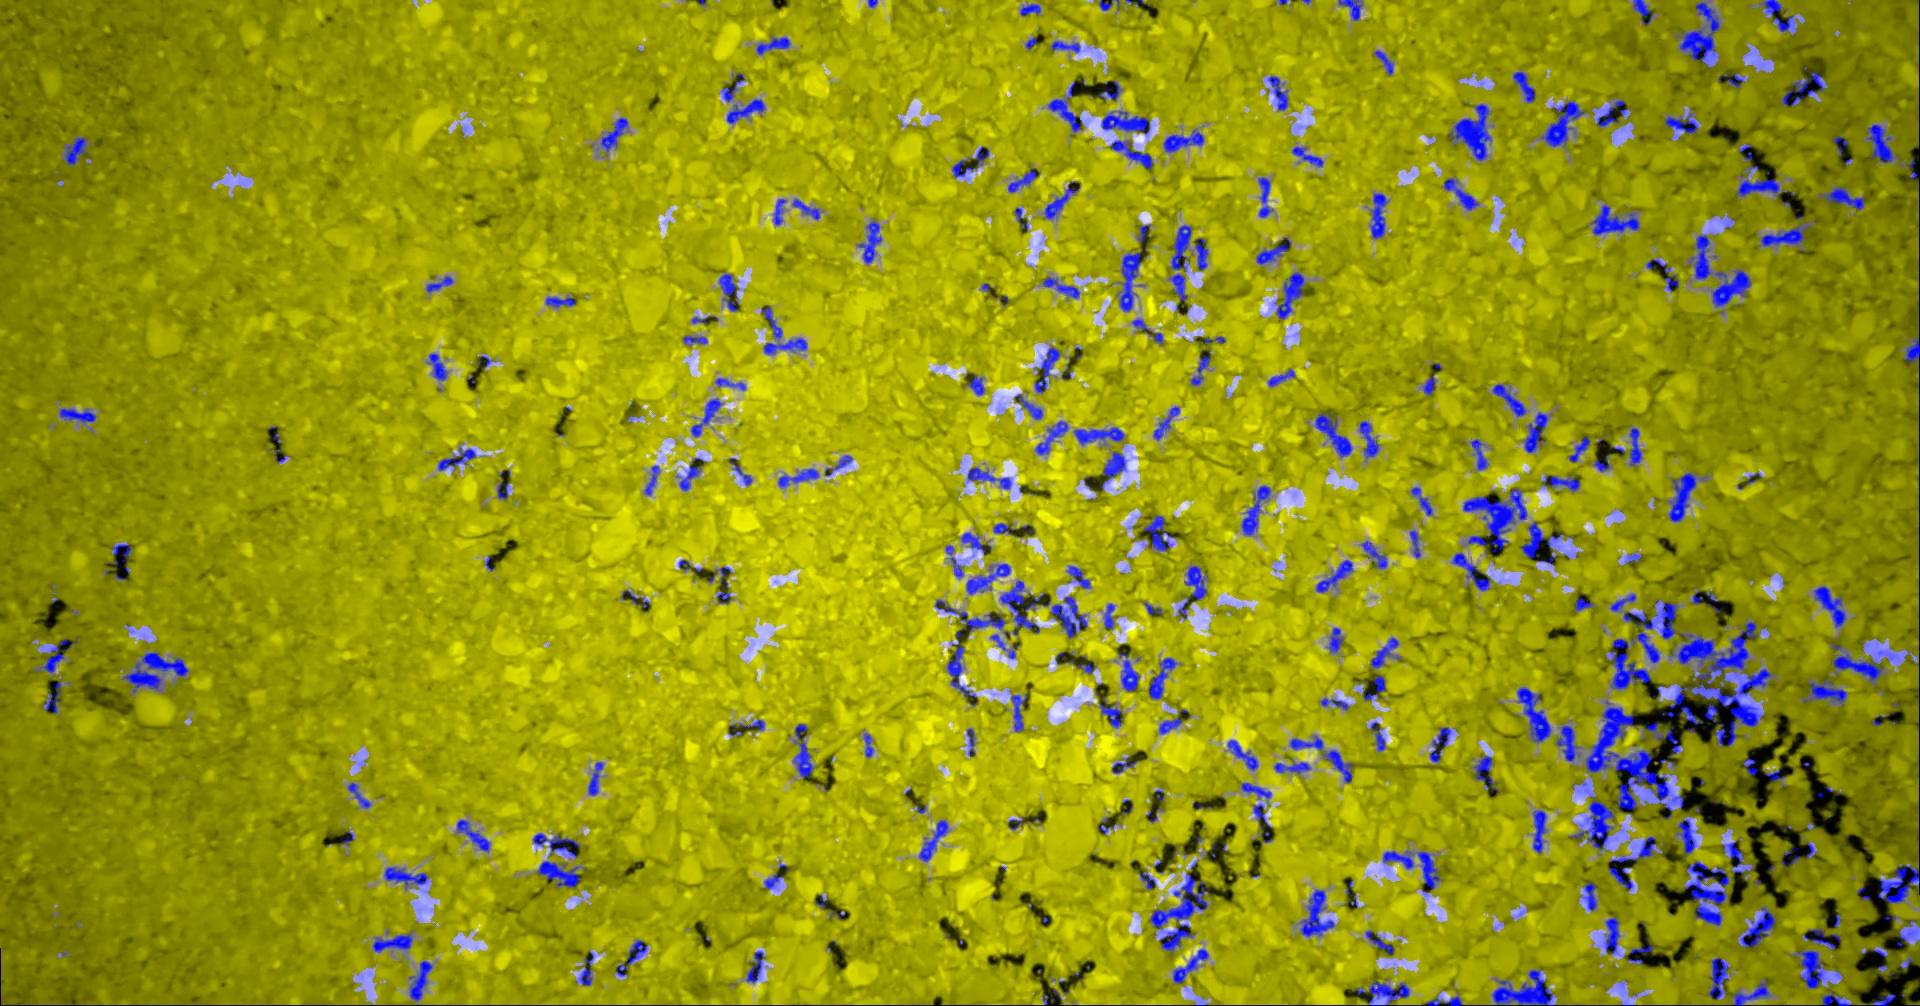ant: (124, 652, 190, 692), (1681, 0, 1721, 67), (1001, 580, 1045, 636), (1450, 103, 1493, 160), (1572, 795, 1615, 850), (936, 600, 1007, 631), (763, 305, 808, 354), (949, 629, 978, 697), (1543, 102, 1586, 146), (1517, 686, 1552, 742), (1523, 521, 1564, 565), (1043, 596, 1088, 636), (1317, 412, 1352, 457), (1302, 889, 1336, 936), (1879, 864, 1920, 903), (1120, 251, 1147, 311), (1178, 565, 1208, 619), (1763, 213, 1810, 246), (1737, 170, 1796, 196), (1783, 71, 1826, 105), (1453, 553, 1492, 589), (1243, 485, 1272, 535), (1742, 906, 1777, 948), (1834, 653, 1884, 681), (968, 563, 1012, 594), (1592, 205, 1641, 234), (1670, 473, 1699, 521), (1815, 586, 1848, 627), (1356, 981, 1411, 1005), (1111, 138, 1154, 169), (1046, 180, 1081, 218), (1277, 272, 1305, 318), (919, 819, 950, 861), (1175, 948, 1210, 983), (1611, 836, 1657, 862), (1646, 721, 1683, 754), (692, 398, 724, 436), (1036, 345, 1062, 392), (535, 832, 582, 857), (1049, 98, 1084, 131), (1150, 657, 1178, 699), (1317, 559, 1354, 591), (617, 939, 649, 976), (952, 146, 990, 177), (538, 860, 582, 887), (795, 723, 815, 779), (1445, 178, 1481, 210), (1144, 514, 1176, 550), (1495, 384, 1528, 417), (43, 639, 76, 672), (1761, 0, 1797, 30), (1103, 111, 1150, 133), (1798, 950, 1826, 988), (1647, 259, 1680, 291), (1037, 420, 1069, 453), (458, 819, 491, 851), (1724, 841, 1754, 876), (1868, 124, 1895, 163), (860, 220, 883, 263), (1735, 978, 1771, 1005), (1825, 185, 1865, 210), (1525, 412, 1549, 452), (1418, 851, 1443, 892), (728, 98, 766, 123), (385, 866, 429, 888), (410, 960, 434, 1000), (1102, 451, 1128, 488), (1164, 130, 1205, 152), (1324, 749, 1352, 782), (1810, 678, 1848, 702), (602, 117, 629, 151), (969, 467, 1013, 488), (1173, 224, 1192, 271), (1229, 739, 1258, 770), (1258, 238, 1291, 264), (1076, 427, 1125, 445), (679, 457, 706, 490), (439, 447, 477, 470), (1557, 725, 1581, 761), (1371, 636, 1399, 667), (1120, 652, 1142, 691), (1597, 99, 1629, 126), (1044, 276, 1081, 298), (1656, 601, 1679, 638), (1476, 754, 1498, 791), (1156, 406, 1181, 439), (720, 273, 742, 311), (1133, 318, 1164, 343), (778, 467, 820, 486), (1710, 956, 1730, 998), (1371, 193, 1389, 238), (1361, 420, 1382, 459), (1804, 929, 1843, 949), (375, 932, 414, 951), (1016, 392, 1044, 419), (1363, 540, 1389, 568), (1101, 695, 1124, 727), (1269, 75, 1289, 111), (992, 634, 1021, 658), (1514, 71, 1537, 102), (963, 532, 993, 555), (1431, 727, 1451, 761), (1368, 930, 1396, 954), (1666, 113, 1699, 133), (1192, 351, 1211, 385), (577, 950, 596, 984), (1293, 146, 1324, 166), (1010, 169, 1037, 192), (724, 72, 745, 102), (758, 36, 791, 55), (1543, 475, 1581, 492), (1258, 177, 1274, 217), (730, 459, 753, 485), (1679, 819, 1697, 854), (1012, 694, 1029, 730), (66, 136, 88, 164), (1534, 810, 1548, 854), (825, 455, 855, 475), (730, 719, 766, 735), (1610, 866, 1634, 890), (1364, 674, 1387, 700), (1570, 436, 1591, 462), (794, 198, 822, 218), (1412, 486, 1432, 514), (46, 681, 63, 713), (1606, 916, 1622, 953), (1068, 565, 1092, 588), (349, 782, 372, 807), (1384, 850, 1415, 868), (623, 589, 651, 608), (947, 545, 964, 577), (748, 950, 764, 982), (589, 761, 604, 795), (430, 353, 450, 380), (1898, 920, 1917, 946), (1472, 438, 1488, 469), (1269, 368, 1297, 386), (61, 408, 97, 422), (1112, 756, 1140, 774), (1634, 0, 1655, 24), (1630, 427, 1643, 465), (114, 542, 133, 568), (1629, 944, 1655, 963), (719, 567, 731, 603), (1275, 761, 1312, 774), (1340, 0, 1363, 20), (646, 465, 662, 495), (1291, 735, 1324, 749), (1377, 50, 1396, 74), (1611, 593, 1637, 611), (1905, 335, 1920, 365), (1371, 721, 1387, 751), (1243, 782, 1272, 798), (1823, 989, 1853, 1005), (1172, 274, 1189, 301), (428, 276, 455, 292), (1100, 80, 1123, 99), (1255, 804, 1272, 828), (968, 372, 985, 395), (1743, 757, 1766, 775), (1161, 716, 1183, 733), (1719, 71, 1743, 86), (1909, 158, 1920, 189), (1197, 238, 1209, 269), (1865, 993, 1897, 1005), (1782, 847, 1802, 865), (1053, 39, 1081, 52), (1585, 882, 1597, 909), (681, 559, 703, 574), (1429, 995, 1463, 1005), (1330, 627, 1343, 652), (547, 296, 577, 307), (717, 377, 747, 389), (1707, 591, 1722, 612), (775, 198, 787, 224), (1411, 530, 1422, 558), (1322, 697, 1350, 709), (1140, 870, 1157, 889), (1016, 207, 1029, 231), (1835, 135, 1849, 156), (1423, 373, 1437, 395), (1595, 453, 1611, 471), (766, 873, 785, 888), (1105, 603, 1116, 627), (1021, 3, 1043, 15), (1576, 596, 1595, 610), (968, 728, 977, 756), (996, 522, 1017, 533), (865, 733, 875, 757), (1139, 224, 1152, 243), (1741, 144, 1754, 161), (1145, 602, 1163, 615), (1768, 768, 1785, 781), (1100, 0, 1121, 10), (1078, 661, 1095, 673), (498, 481, 509, 499), (684, 335, 709, 343), (342, 831, 356, 843)
